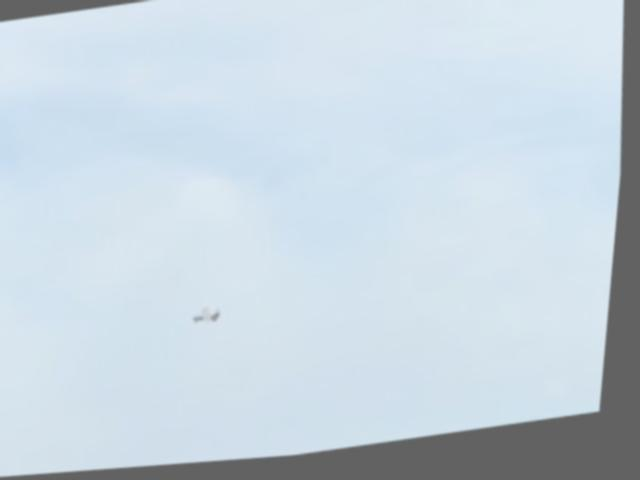uav: (190, 300, 232, 337)
